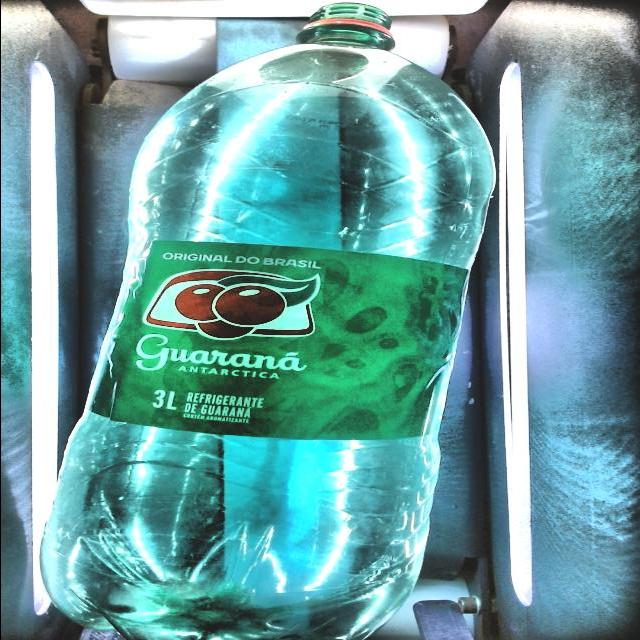bottle: (41, 5, 493, 640)
